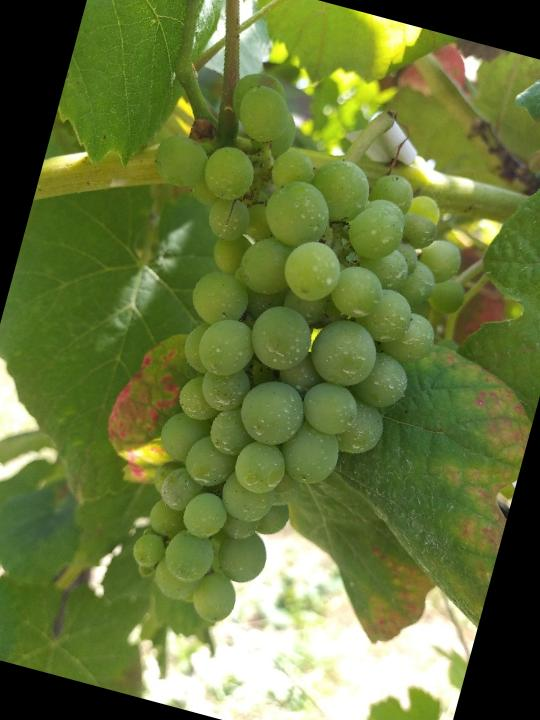grape: (40, 50, 510, 666)
